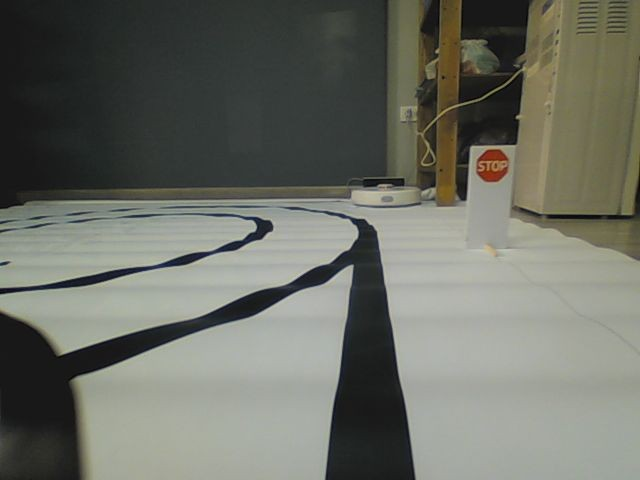Stop: (475, 150, 510, 182)
